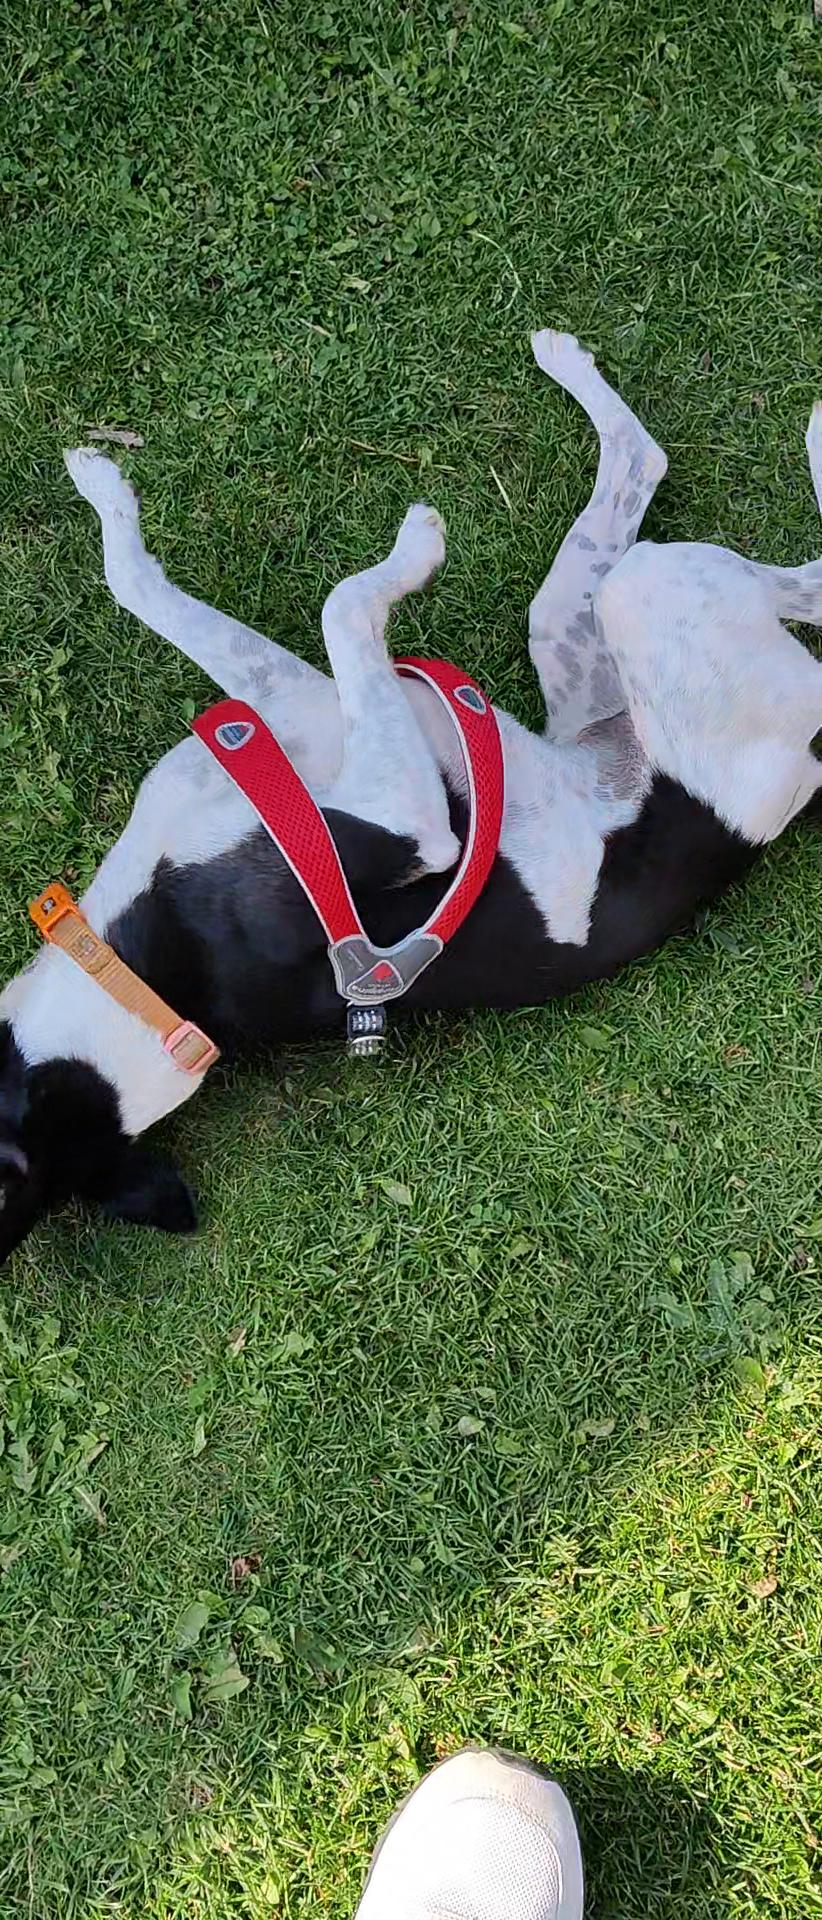Dog: (0, 313, 822, 1289)
